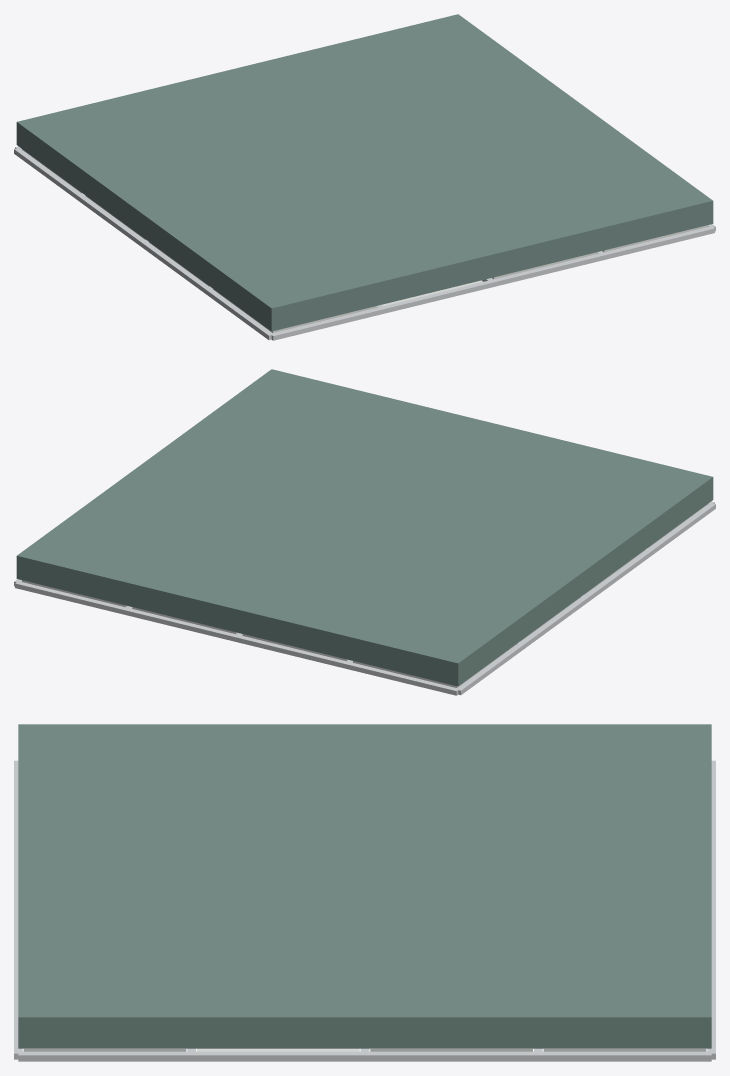
Rendered from ceil_hs_tile.glb.
The picture shows the model from 3 angles, top to bottom: view 1: azimuth 30°, elevation 25°; view 2: azimuth 150°, elevation 25°; view 3: azimuth 270°, elevation 25°; orthographic projection. The views are drawn at different scales.
Visible parts, largest first — view 1: ceil_hs_tile; view 2: ceil_hs_tile; view 3: ceil_hs_tile.
Part boxes in pixels (x1,y1,x2,y2): ceil_hs_tile: [14, 14, 715, 340]; ceil_hs_tile: [14, 369, 715, 695]; ceil_hs_tile: [14, 724, 715, 1061].
Bounding box in the file's own units: 4.05 × 0.295 × 4.05.
